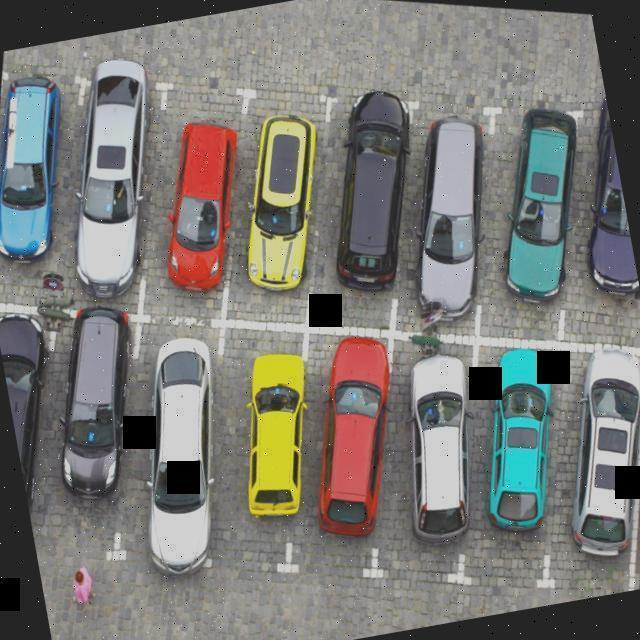space-occupied: (152, 307, 344, 588), (244, 312, 434, 593), (415, 326, 602, 600), (267, 78, 454, 349), (75, 302, 261, 573), (182, 83, 368, 353), (436, 92, 618, 362), (0, 295, 178, 571), (103, 73, 289, 336), (20, 66, 204, 331), (335, 317, 515, 586), (351, 87, 531, 355), (505, 336, 640, 605), (0, 51, 127, 320), (517, 94, 640, 362), (0, 293, 94, 552)
